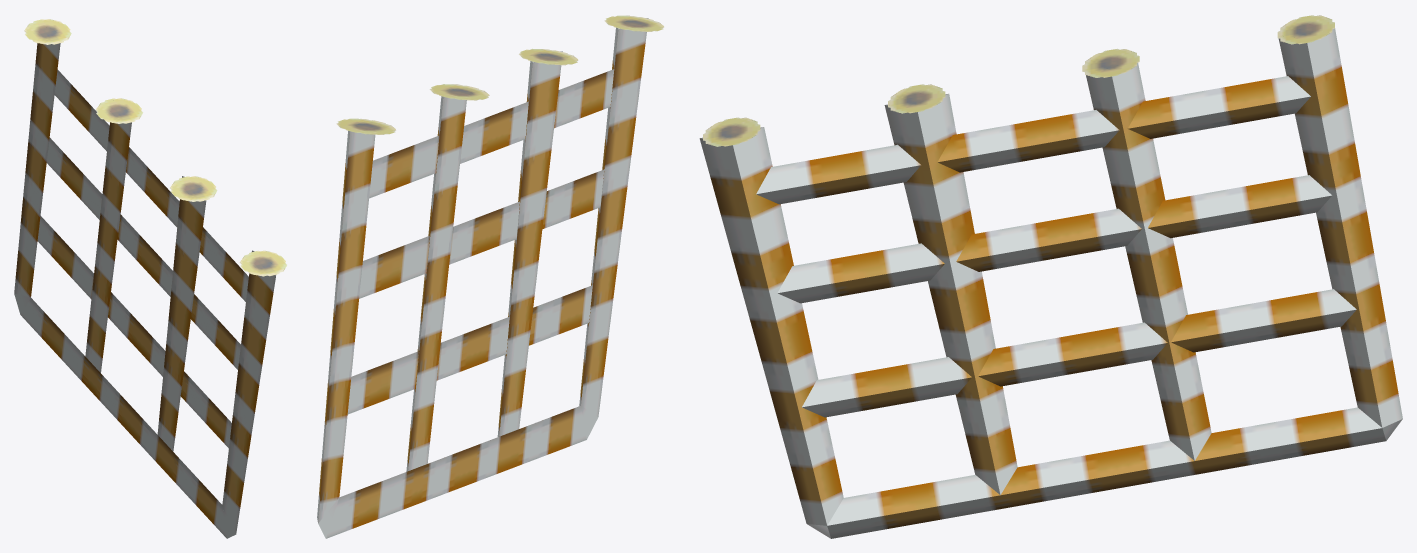
File: montefence.dae
3 renders of one model, left to right at view 1: azimuth 30°, elevation 25°; view 2: azimuth 150°, elevation 25°; view 3: azimuth 270°, elevation 25°, orthographic. The views are drawn at different scales.
Visible parts, largest first — view 1: m0; view 2: m0; view 3: m0.
Part boxes in pixels (x1,y1,x2,y2): m0: (14,19,286,538); m0: (317,15,663,538); m0: (699,15,1402,538).
Bounding box in the file's own units: 36.12 × 252 × 315.
Materials: 1 (1 with a texture image).
